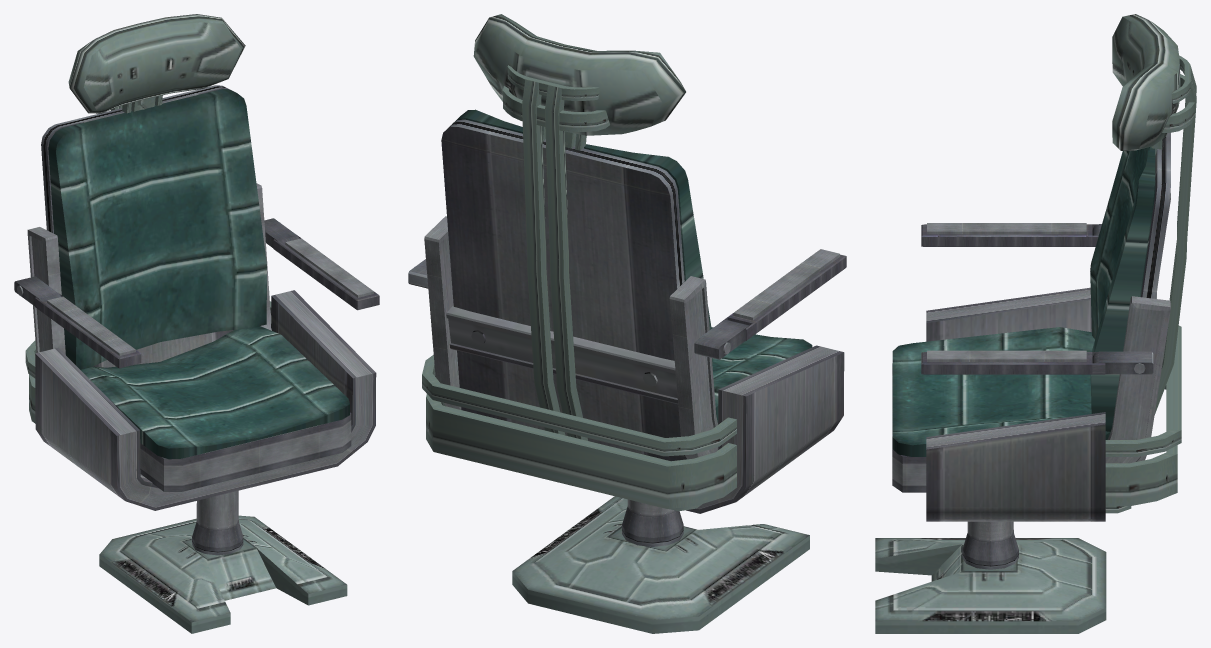
The model's file is rtm_chair.obj.
The picture shows the model from 3 angles, left to right: view 1: azimuth 30°, elevation 25°; view 2: azimuth 150°, elevation 25°; view 3: azimuth 270°, elevation 25°; orthographic projection. The views are drawn at different scales.
Parts seen in each view (by area): view 1: polygon1, polygon2, polygon0; view 2: polygon2, polygon1, polygon0; view 3: polygon2, polygon1, polygon0.
Part boxes in pixels (x1,y1,x2,y2): polygon1: (25,14,349,459); polygon2: (14,85,379,555); polygon0: (99,515,347,633); polygon2: (408,119,846,546); polygon1: (422,14,812,511); polygon0: (512,496,809,633); polygon2: (892,133,1170,569); polygon1: (892,14,1196,513); polygon0: (875,538,1106,633).
Size of the model in its own units: 0.7458 by 1.36 by 0.7238.
